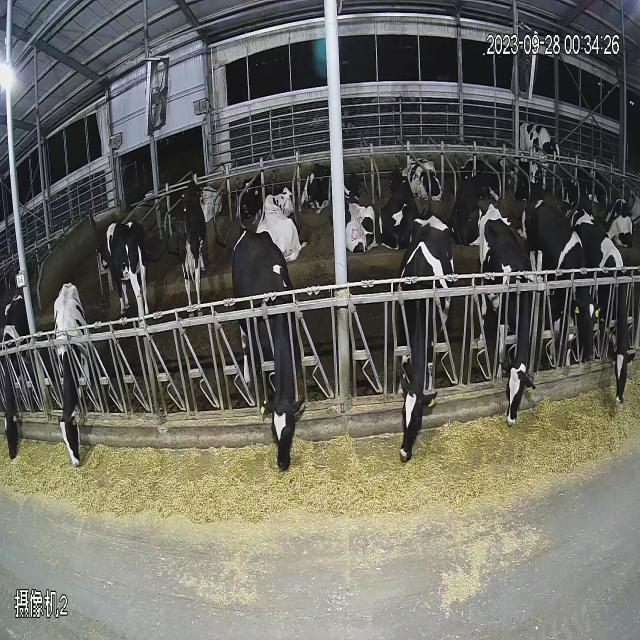drinking: (83, 199, 166, 326)
feeding: (226, 239, 314, 542), (474, 208, 538, 546), (394, 236, 455, 546), (540, 213, 604, 468), (44, 274, 102, 532), (596, 203, 640, 484), (0, 217, 34, 520)
lying down: (254, 174, 304, 271), (374, 142, 412, 255), (339, 180, 379, 267), (301, 141, 339, 229), (402, 141, 447, 211)
standing: (172, 164, 215, 317), (513, 110, 567, 191)
